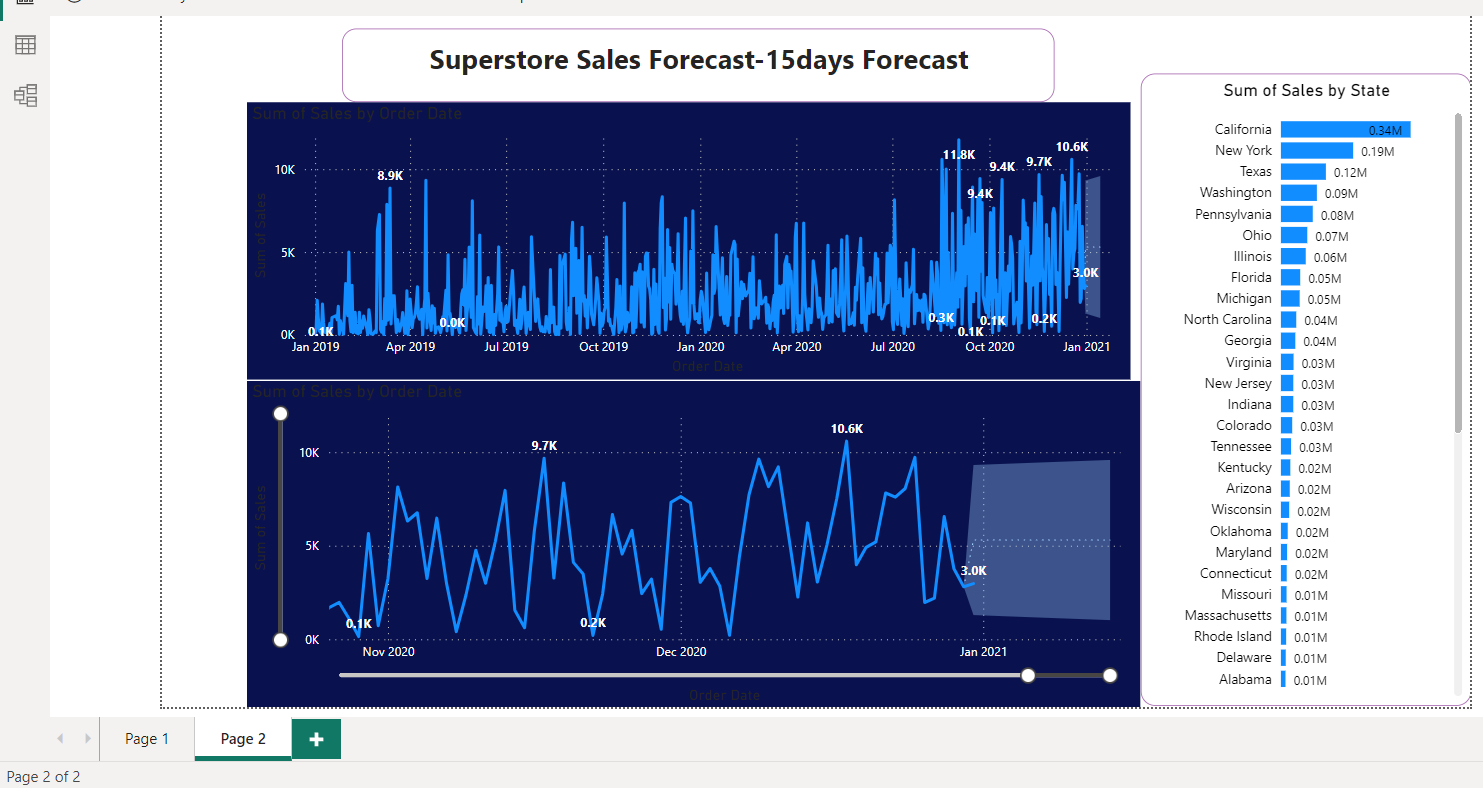

What the dashboard file says about the page in this screenshot:
{"tool":"powerbi","page":{"name":"Page 2","canvas":[1280,720],"ordinal":1},"visuals":[{"type":"lineChart","fields":{"Y":["Sum(SuperStore_Sales_Dataset.Sales)"],"Category":["SuperStore_Sales_Dataset.Order Date"]},"box":[83.6,128.9,863.8,271.5],"z":0},{"type":"lineChart","fields":{"Y":["Sum(SuperStore_Sales_Dataset.Sales)"],"Category":["SuperStore_Sales_Dataset.Order Date"]},"box":[83.6,400.3,873.4,319.5],"z":1000},{"type":"clusteredBarChart","fields":{"Y":["Sum(SuperStore_Sales_Dataset.Sales)"],"Category":["SuperStore_Sales_Dataset.State"]},"box":[957,100.1,323.6,618.3],"z":2000},{"type":"textbox","box":[176,56.2,696.8,72.1],"z":3000}]}

Visuals, with their boxes on the page's 1280x720 design canvas (x1, y1, x2, y2). These are canvas units, not pixel positions in the 1483x788 screenshot, which may show the page scaled, cropped or inside an application window:
lineChart - Sum(SuperStore_Sales_Dataset.Sales) x SuperStore_Sales_Dataset.Order Date: bbox=[84, 129, 947, 400]
lineChart - Sum(SuperStore_Sales_Dataset.Sales) x SuperStore_Sales_Dataset.Order Date: bbox=[84, 400, 957, 720]
clusteredBarChart - Sum(SuperStore_Sales_Dataset.Sales) x SuperStore_Sales_Dataset.State: bbox=[957, 100, 1281, 718]
textbox: bbox=[176, 56, 873, 128]
